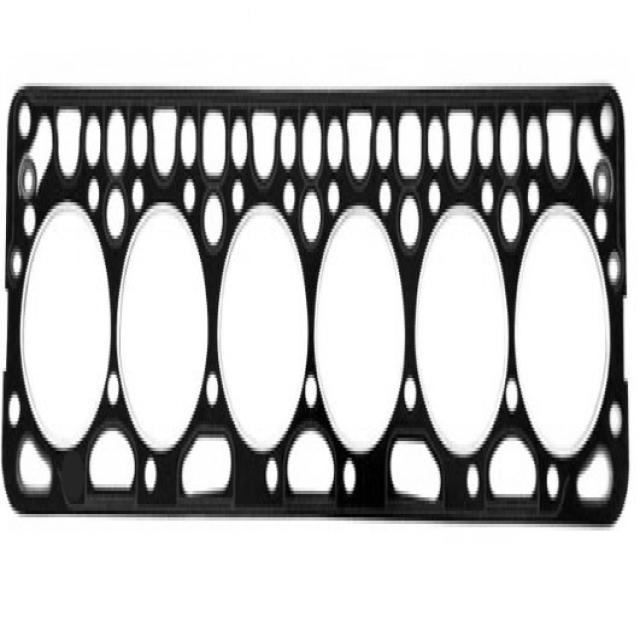missing hole: (59, 435, 88, 523)
